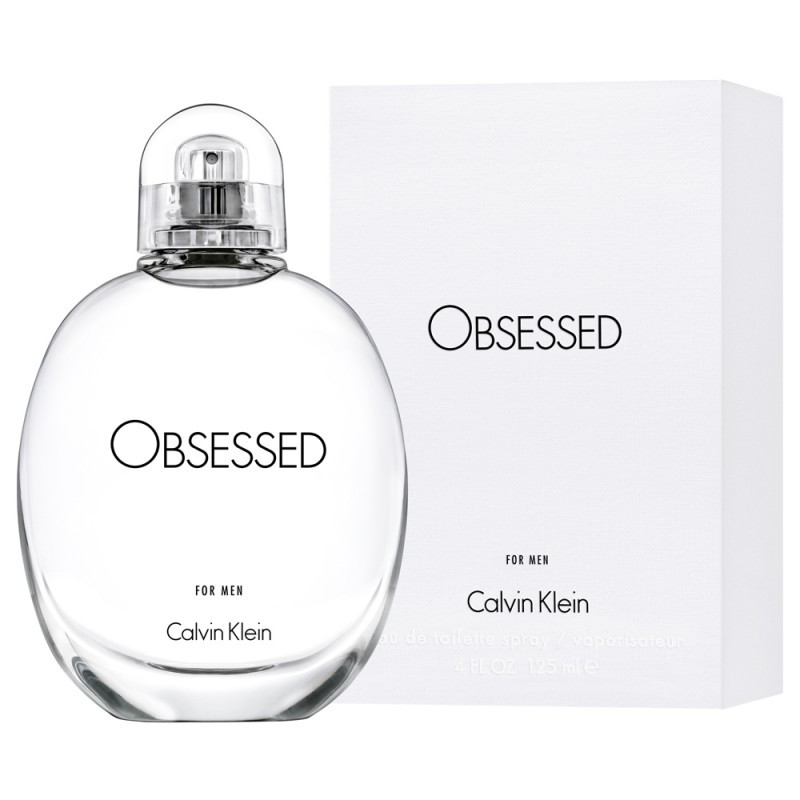Calvin Klein: (455, 579, 605, 618), (152, 612, 297, 649)
